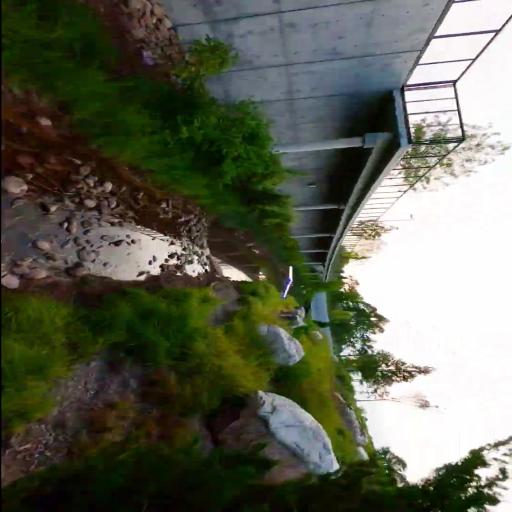uav: (278, 266, 294, 300)
